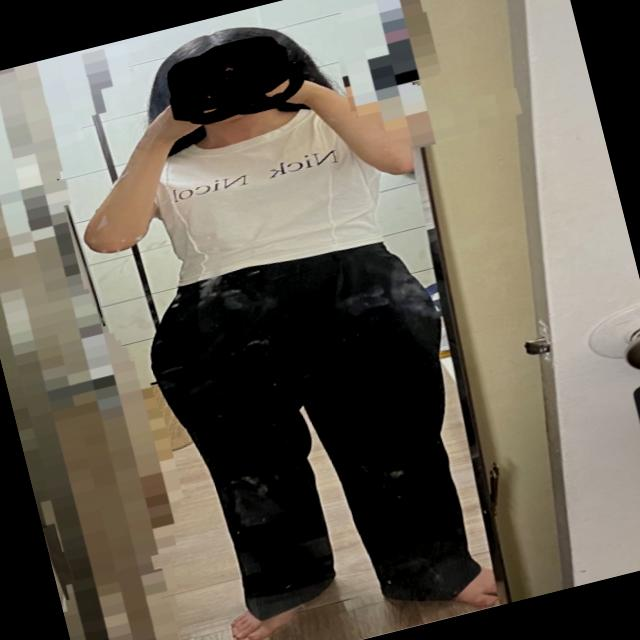shortsleeve: (112, 87, 412, 296)
slacks: (131, 224, 503, 640)
